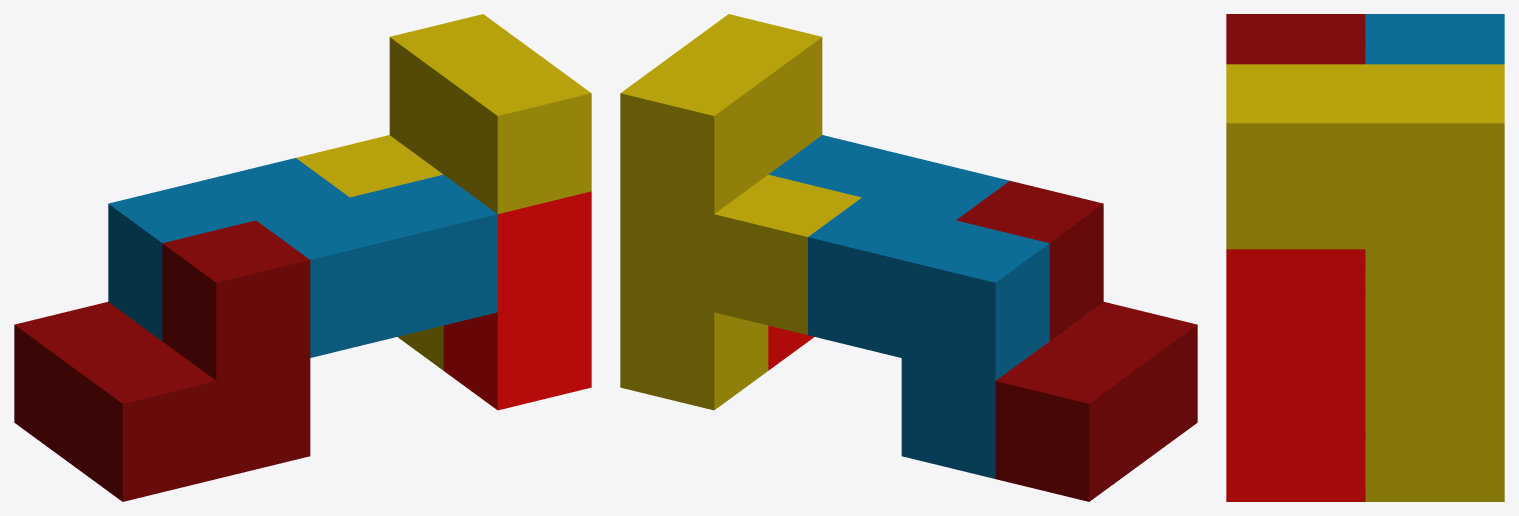
3 views of the same model, side by side, from view 1: azimuth 30°, elevation 25°; view 2: azimuth 150°, elevation 25°; view 3: azimuth 270°, elevation 25° (orthographic). The views are drawn at different scales.
Visible parts, largest first — view 1: mergedBlocks(Clone); view 2: mergedBlocks(Clone); view 3: mergedBlocks(Clone).
Part boxes in pixels (left/top/right/bottom): mergedBlocks(Clone): left=14, top=14, right=591, bottom=501; mergedBlocks(Clone): left=620, top=14, right=1197, bottom=501; mergedBlocks(Clone): left=1226, top=14, right=1504, bottom=501.
Size of the model in its own units: 5 by 3 by 2.
4 materials, 4 textured.
